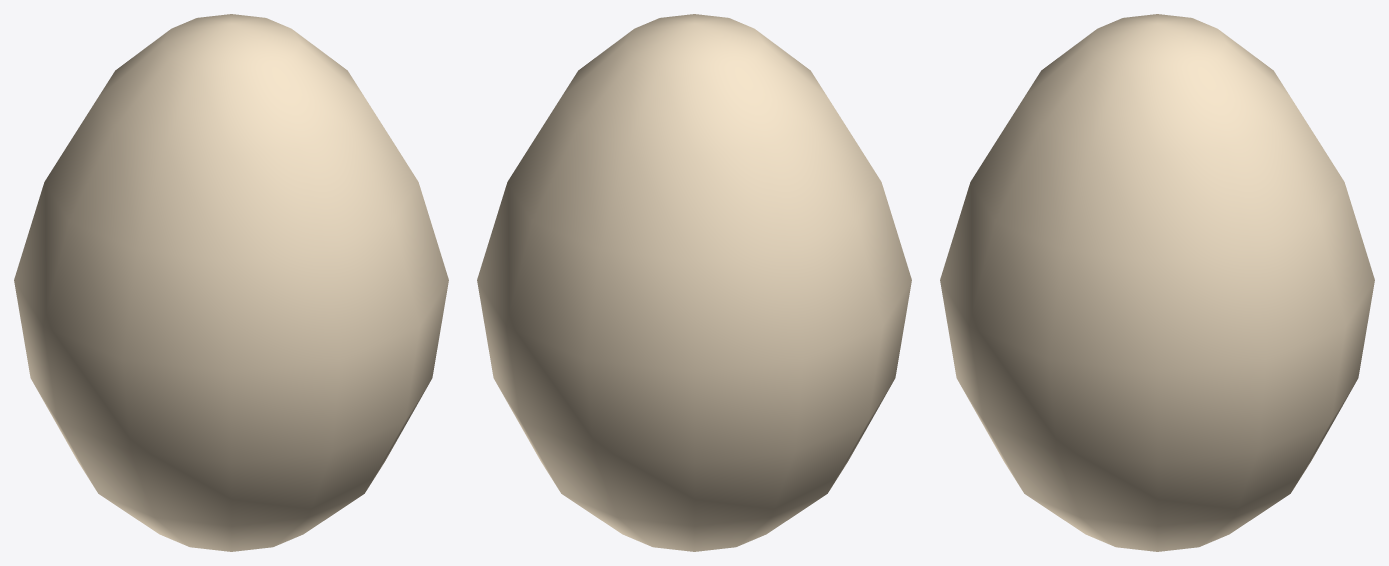
Rendered from Yumurta_Model.fbx.
3 renders of one model, left to right at view 1: azimuth 30°, elevation 25°; view 2: azimuth 150°, elevation 25°; view 3: azimuth 270°, elevation 25°, orthographic.
Parts seen in each view (by area): view 1: Yumurta_Model; view 2: Yumurta_Model; view 3: Yumurta_Model.
Boxes of the visible parts, x1,y1,x2,y2 form: Yumurta_Model: (14,14,448,551); Yumurta_Model: (477,14,911,551); Yumurta_Model: (940,14,1374,551).
Bounding box in the file's own units: 20 × 26 × 20.
